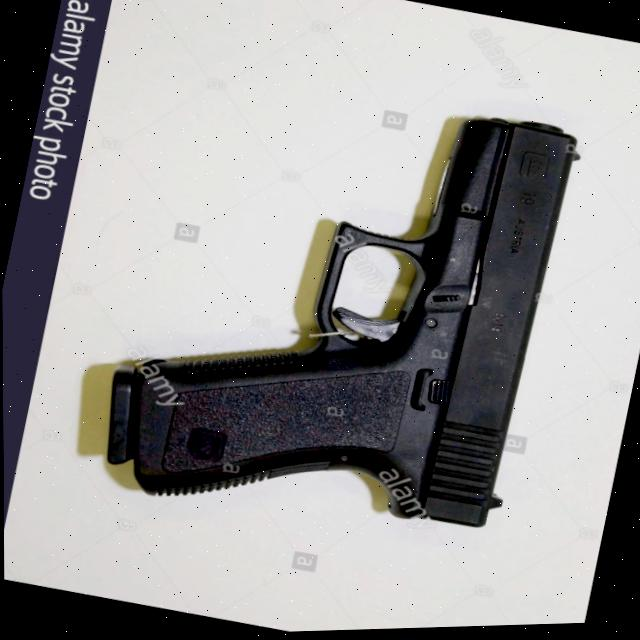pistol: (84, 43, 593, 574)
